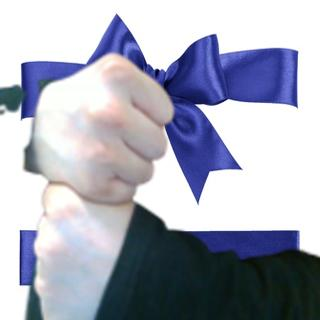CAREFUL: (15, 45, 180, 320)
